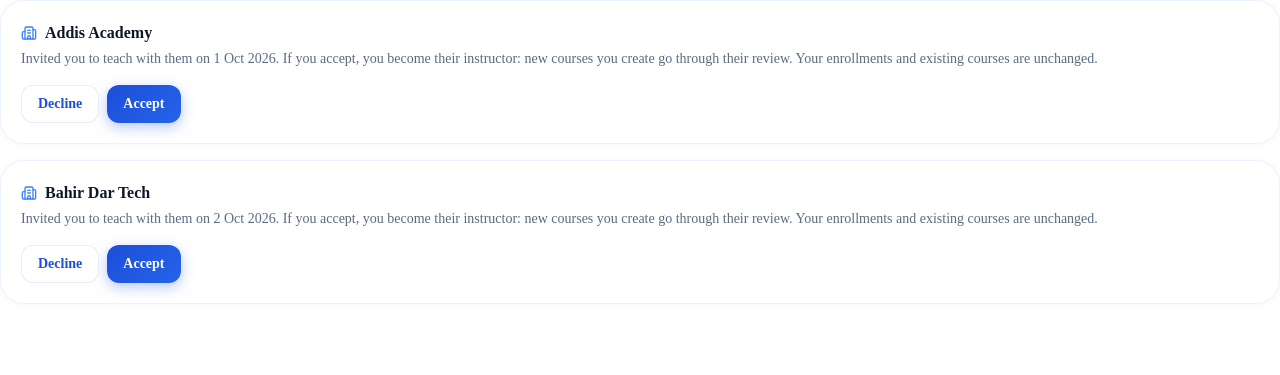
Scenario: InvitesList › shows the server’s reason when acceptance is refused
Click the button "Accept" below "1 Oct 2026": (144, 104) [107,85,180,123]
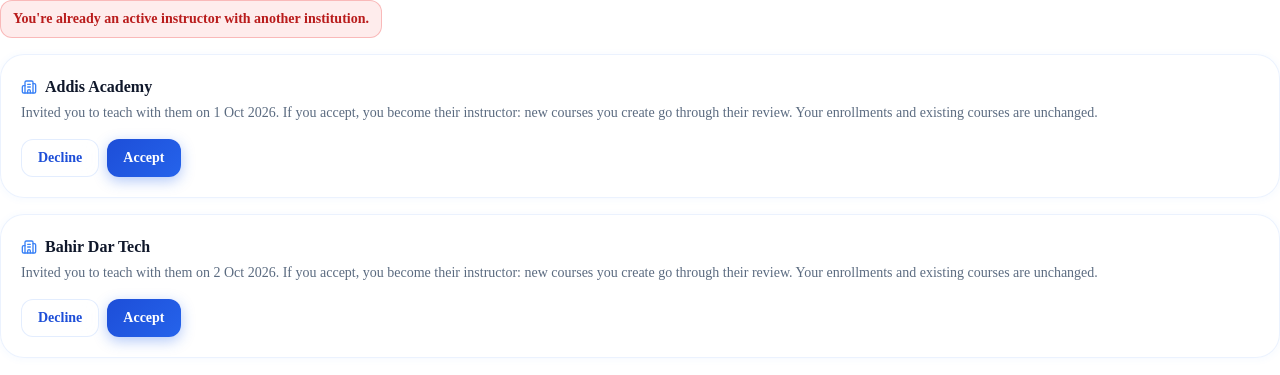
Now the message shows "already an active instructor", box [13,11,369,26]
